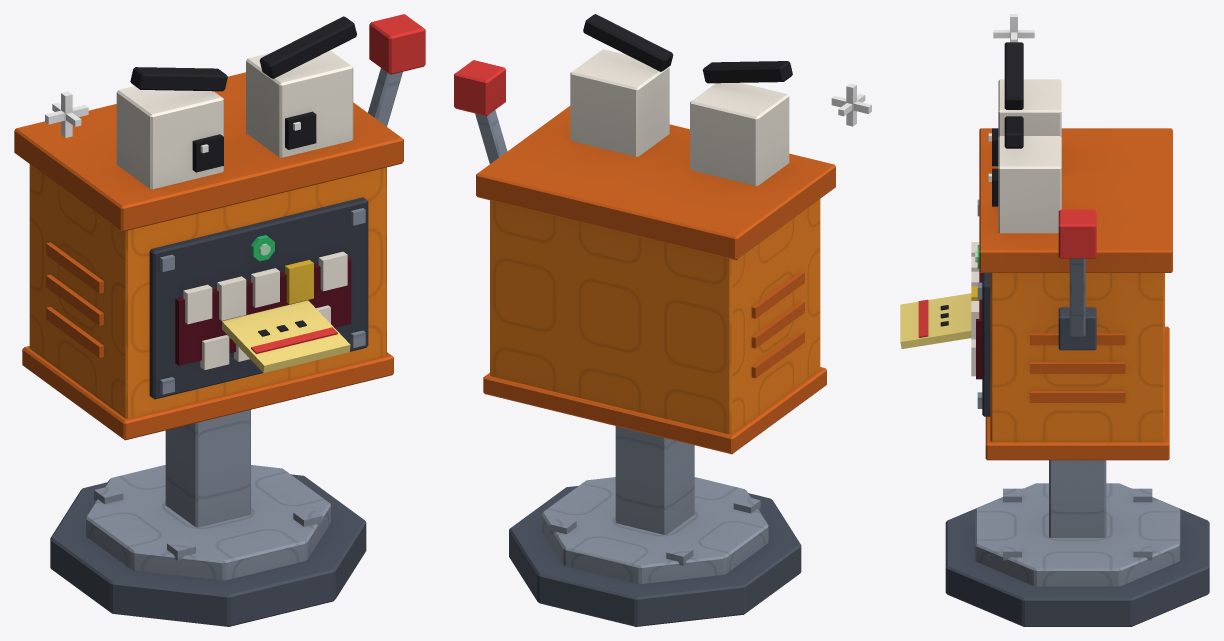
The model's file is HungryValidator.fbx.
3 views of the same model, side by side, from view 1: azimuth 30°, elevation 25°; view 2: azimuth 150°, elevation 25°; view 3: azimuth 270°, elevation 25° (orthographic). The views are drawn at different scales.
Parts seen in each view (by area): view 1: Art_HungryValidator; view 2: Art_HungryValidator; view 3: Art_HungryValidator.
Part boxes in pixels (x1=…): Art_HungryValidator: x1=14, y1=14, x2=425, y2=626; Art_HungryValidator: x1=454, y1=14, x2=871, y2=626; Art_HungryValidator: x1=900, y1=14, x2=1209, y2=626.
Bounding box in the file's own units: 2.63 × 3.37 × 1.95.
